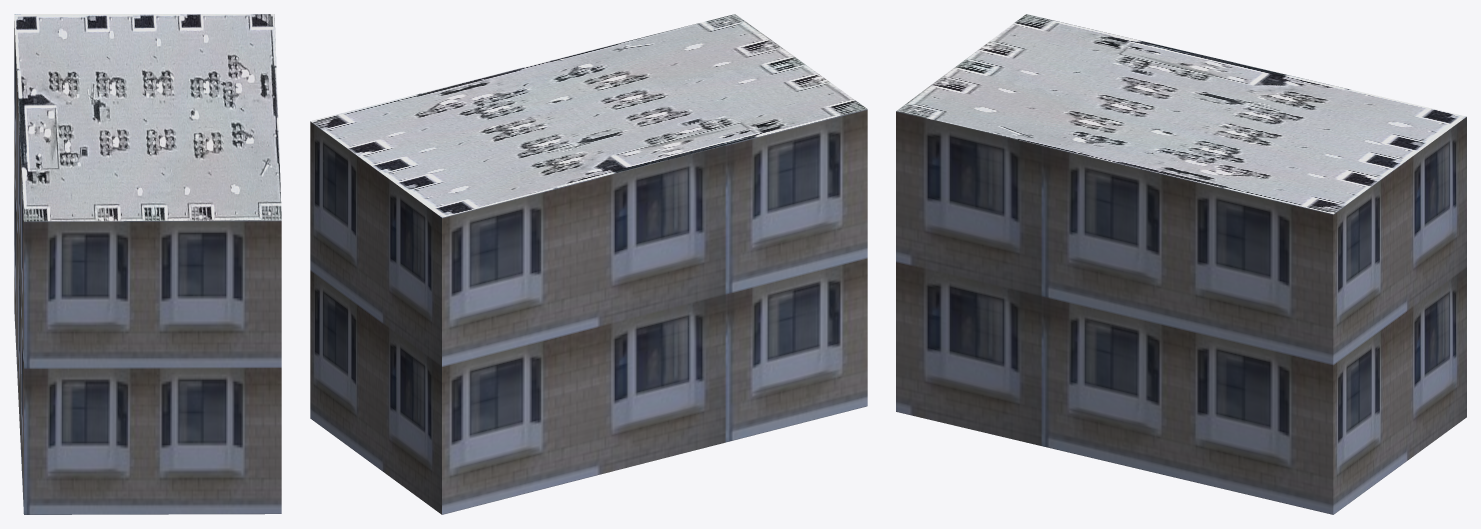
The model's file is ResTex__767.fbx.
3 views of the same model, side by side, from view 1: azimuth 30°, elevation 25°; view 2: azimuth 150°, elevation 25°; view 3: azimuth 270°, elevation 25° (orthographic). The views are drawn at different scales.
Parts seen in each view (by area): view 1: CityEngineMaterial_3_m, CityEngineMaterial_m; view 2: CityEngineMaterial_3_m, CityEngineMaterial_m; view 3: CityEngineMaterial_3_m, CityEngineMaterial_m.
Part boxes in pixels (x1,y1,x2,y2): CityEngineMaterial_3_m: (14, 21, 281, 514); CityEngineMaterial_m: (14, 14, 281, 221); CityEngineMaterial_3_m: (310, 109, 867, 514); CityEngineMaterial_m: (310, 14, 867, 217); CityEngineMaterial_3_m: (896, 111, 1466, 514); CityEngineMaterial_m: (896, 14, 1466, 214).
Bounding box in the file's own units: 8.57 × 6 × 10.32.
Materials: 2 (2 with a texture image).
